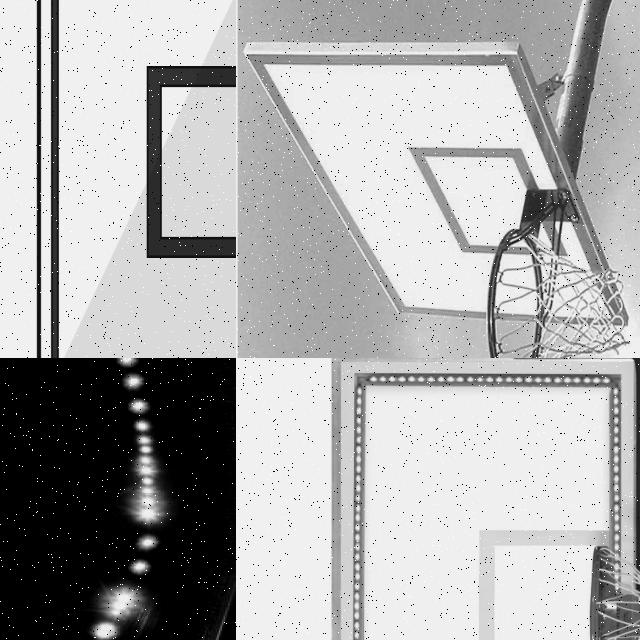backboard: (246, 52, 620, 334), (330, 358, 640, 640), (34, 0, 236, 358)
